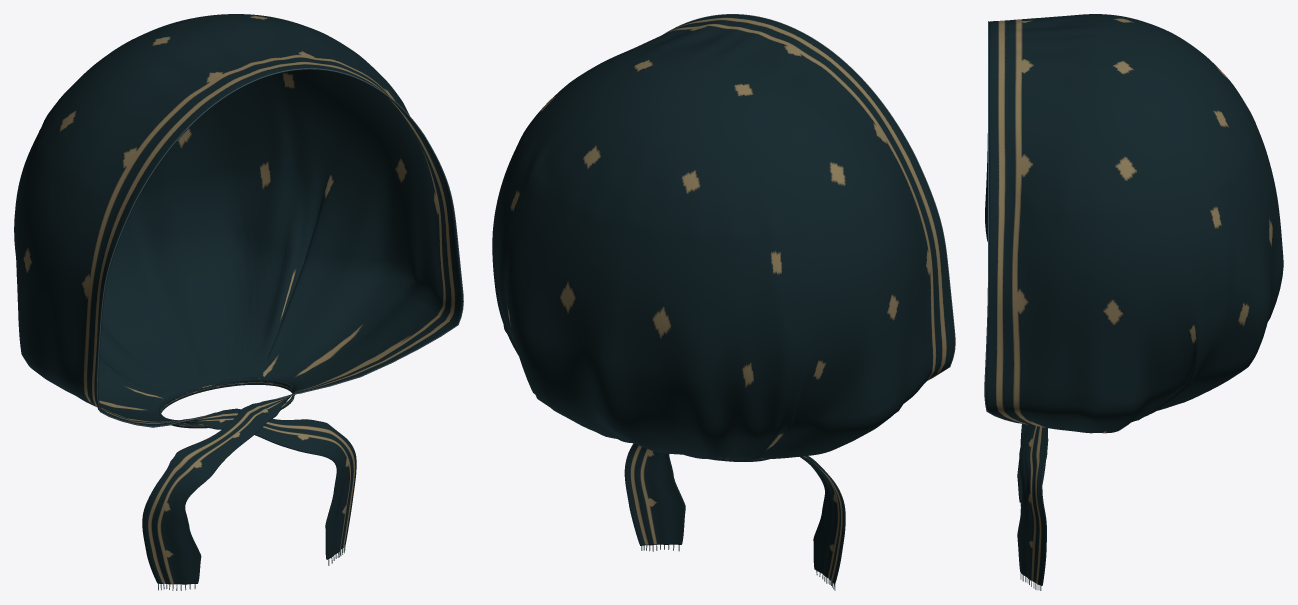
Rendered from Masculine-tank-pashmina247-headgear.glb.
The picture shows the model from 3 angles, left to right: view 1: azimuth 30°, elevation 25°; view 2: azimuth 150°, elevation 25°; view 3: azimuth 270°, elevation 25°; orthographic projection. The views are drawn at different scales.
Parts seen in each view (by area): view 1: 226 headgear / Headwear / continuous woven pashmina239, 226 headgear / Headwear / face edge239; view 2: 226 headgear / Headwear / continuous woven pashmina239, 226 headgear / Headwear / face edge239; view 3: 226 headgear / Headwear / continuous woven pashmina239, 226 headgear / Headwear / face edge239.
Part boxes in pixels (box(x1,y1,x2,y2)): 226 headgear / Headwear / continuous woven pashmina239: box(14, 14, 462, 584); 226 headgear / Headwear / face edge239: box(96, 68, 463, 427); 226 headgear / Headwear / continuous woven pashmina239: box(492, 14, 954, 584); 226 headgear / Headwear / face edge239: box(663, 14, 955, 380); 226 headgear / Headwear / continuous woven pashmina239: box(985, 14, 1283, 585); 226 headgear / Headwear / face edge239: box(984, 21, 1021, 423).
Bounding box in the file's own units: 1.03 × 1.35 × 0.7127.
Materials: 3 (1 with a texture image).
